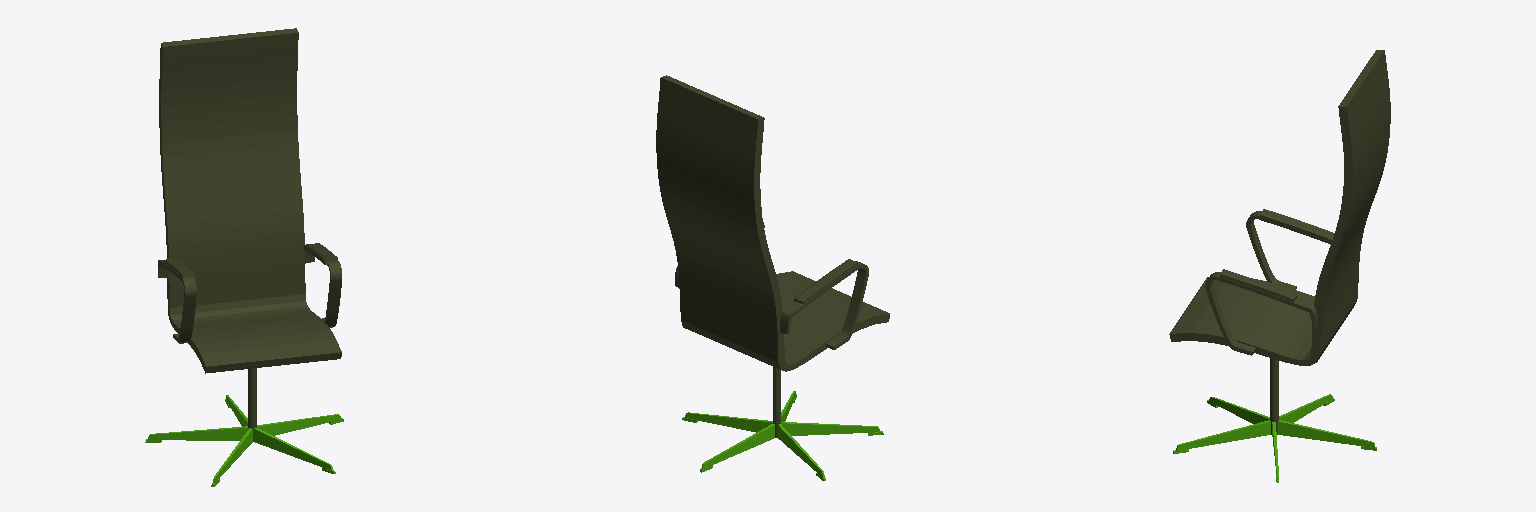
The picture shows the model from 3 angles: view 1: azimuth 30°, elevation 25°; view 2: azimuth 150°, elevation 25°; view 3: azimuth 270°, elevation 25°; orthographic projection.
Parts seen in each view (by area): view 1: arm_chair, arm_left, leg4, arm_right, leg1, leg2, leg; view 2: arm_chair, arm_left, leg5, leg2, leg3, arm_left_up, leg4; view 3: arm_chair, arm_right, leg3, leg1, arm_left_up, arm_left, arm_right_up, leg, leg5.
Boxes of the visible parts, box(x1,y1,x2,y2) form: arm_chair: box(159, 28, 341, 373); arm_left: box(158, 260, 196, 343); leg4: box(148, 426, 248, 440); arm_right: box(304, 244, 341, 327); leg1: box(254, 428, 332, 470); leg2: box(257, 414, 340, 435); leg: box(248, 368, 256, 441); arm_chair: box(656, 75, 889, 371); arm_left: box(780, 261, 868, 349); leg5: box(781, 422, 879, 435); leg2: box(685, 412, 772, 432); leg3: box(701, 424, 774, 468); arm_left_up: box(794, 259, 857, 303); leg4: box(778, 424, 824, 477); arm_chair: box(1169, 50, 1390, 365); arm_right: box(1205, 272, 1317, 355); leg3: box(1278, 420, 1374, 447); leg1: box(1176, 420, 1270, 450); arm_left_up: box(1259, 209, 1334, 244); arm_left: box(1246, 211, 1296, 289); arm_right_up: box(1220, 269, 1296, 301); leg: box(1270, 358, 1278, 434); leg5: box(1209, 397, 1269, 423).
Size of the model in its own units: 25.91 by 53.14 by 28.79.